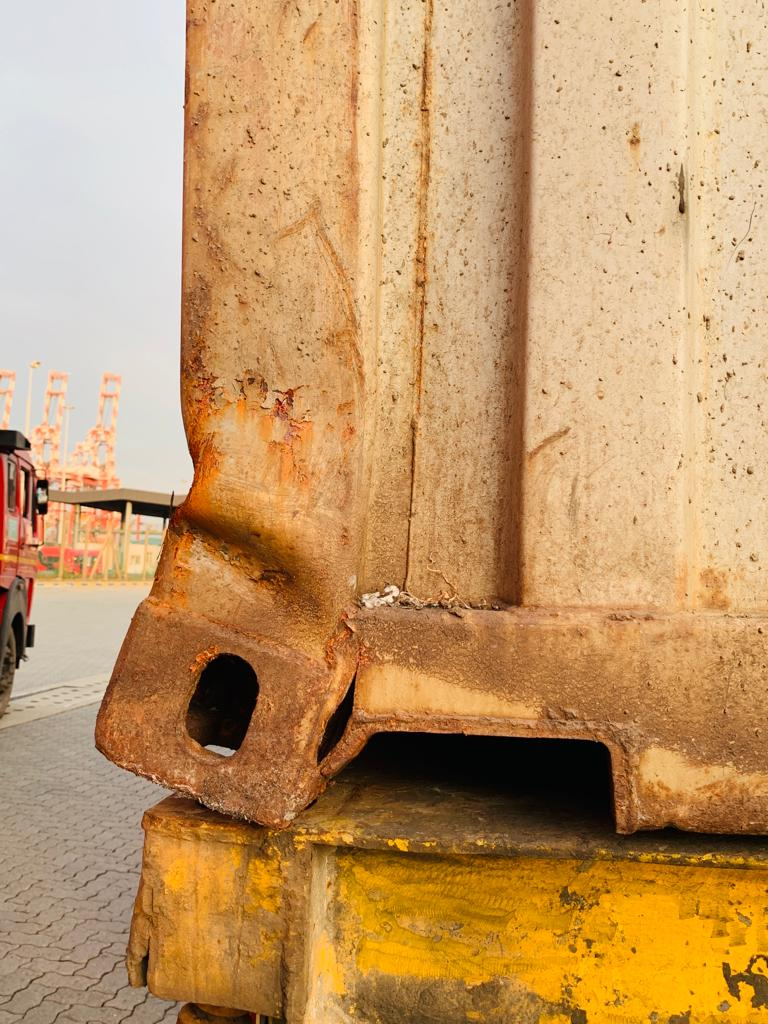dented: (98, 412, 397, 780)
